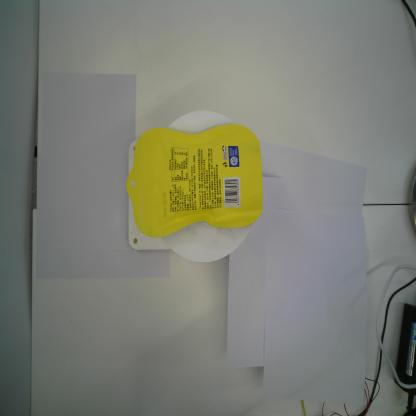Dried Fruit: (123, 122, 264, 240)
